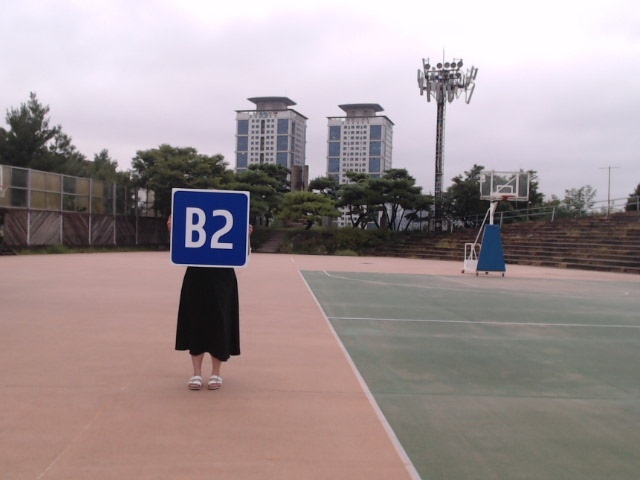delivery_b2: (170, 190, 249, 267)
